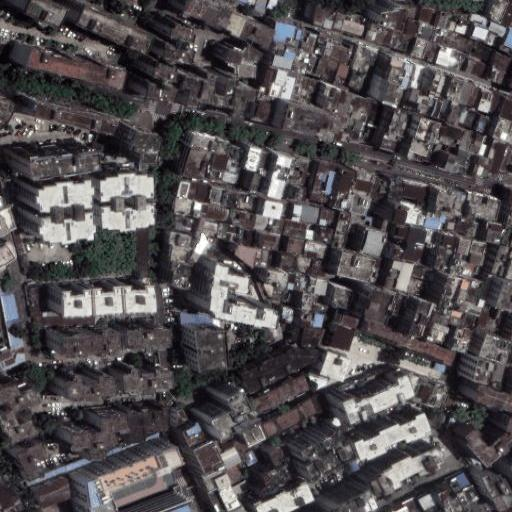building: (71, 438, 166, 512), (455, 383, 512, 467), (187, 249, 255, 314), (15, 44, 118, 86), (348, 406, 430, 458), (369, 445, 447, 498), (369, 322, 456, 368), (324, 364, 400, 414), (13, 173, 69, 237), (169, 68, 243, 114), (75, 164, 131, 224), (285, 415, 347, 469), (13, 90, 98, 123), (242, 348, 303, 392), (193, 380, 242, 429), (257, 444, 300, 497), (253, 375, 311, 413), (430, 270, 478, 310), (4, 138, 74, 165), (255, 483, 314, 512), (39, 322, 104, 345), (475, 470, 512, 510), (0, 433, 34, 476), (128, 60, 166, 98), (142, 17, 177, 57), (100, 355, 148, 384), (113, 398, 155, 431), (179, 326, 211, 368), (204, 37, 244, 70), (286, 104, 326, 137), (41, 363, 89, 390), (454, 239, 486, 279), (58, 421, 102, 450), (1, 294, 25, 346), (28, 476, 67, 506), (260, 410, 303, 437), (30, 310, 98, 327), (416, 375, 453, 406), (336, 252, 374, 282), (102, 319, 153, 341), (119, 123, 150, 159), (364, 288, 393, 326), (193, 442, 224, 476), (220, 12, 255, 42), (332, 490, 378, 512), (409, 299, 434, 338), (106, 277, 140, 305), (319, 351, 350, 381), (182, 148, 211, 180), (376, 196, 414, 220), (208, 483, 239, 512), (275, 20, 307, 48), (47, 280, 77, 309), (481, 335, 512, 363), (269, 40, 297, 70), (386, 260, 413, 291), (77, 277, 106, 305), (467, 194, 499, 219), (476, 303, 502, 333), (374, 52, 400, 82), (487, 276, 512, 307), (328, 325, 355, 352), (387, 107, 410, 138), (296, 397, 324, 422), (384, 31, 414, 54), (311, 160, 331, 194), (0, 479, 21, 511), (347, 61, 369, 91), (278, 255, 314, 273), (322, 163, 341, 197), (175, 182, 208, 201), (202, 469, 228, 493), (435, 125, 462, 148), (312, 1, 335, 28), (363, 229, 385, 257), (365, 0, 395, 20), (294, 344, 320, 367), (346, 94, 369, 120), (487, 139, 505, 172), (137, 228, 149, 277), (300, 293, 328, 314), (428, 72, 448, 101), (334, 211, 351, 245), (218, 446, 242, 470), (415, 119, 440, 142), (182, 424, 207, 447), (461, 356, 483, 382), (252, 96, 274, 122), (254, 214, 284, 233), (209, 188, 239, 207), (332, 311, 360, 331), (448, 472, 472, 495), (451, 328, 473, 353), (408, 135, 433, 157), (355, 44, 380, 66), (189, 132, 215, 153), (320, 85, 340, 112), (304, 242, 331, 261), (491, 247, 508, 277), (368, 77, 389, 101), (291, 46, 309, 74), (160, 258, 179, 284), (428, 322, 450, 344), (333, 92, 353, 116), (492, 119, 512, 143), (272, 156, 291, 181), (85, 406, 114, 422), (416, 492, 439, 512), (405, 277, 428, 297), (395, 173, 422, 190), (292, 157, 309, 184), (256, 68, 273, 95), (268, 70, 285, 97), (434, 152, 458, 171), (261, 198, 287, 215), (230, 211, 256, 228), (435, 481, 456, 502), (434, 191, 455, 212), (384, 239, 406, 259), (456, 486, 478, 506), (301, 327, 323, 347), (259, 233, 281, 253), (480, 220, 499, 243), (455, 218, 479, 236), (235, 247, 256, 267), (349, 192, 369, 213), (300, 203, 322, 222), (281, 221, 307, 237), (339, 169, 357, 192), (323, 114, 347, 131), (303, 53, 320, 77), (245, 147, 261, 172), (379, 132, 399, 152), (458, 81, 474, 106), (303, 79, 319, 104), (226, 464, 246, 484), (267, 177, 286, 198), (403, 240, 422, 261), (287, 273, 309, 291), (216, 225, 238, 243), (447, 77, 465, 99), (341, 20, 365, 36), (291, 77, 307, 101), (416, 20, 436, 39), (232, 477, 252, 496), (457, 108, 476, 128), (301, 31, 320, 51), (332, 287, 350, 308), (490, 52, 511, 70), (497, 98, 512, 123), (410, 266, 432, 283), (236, 193, 258, 210), (318, 210, 337, 229), (235, 228, 255, 246), (468, 134, 486, 154), (314, 55, 329, 79), (307, 279, 328, 296), (336, 189, 353, 210), (331, 44, 352, 61), (207, 205, 229, 221), (350, 118, 366, 140), (477, 90, 493, 112), (464, 59, 486, 75), (323, 60, 339, 82), (280, 76, 295, 99), (161, 241, 180, 259), (455, 35, 475, 52), (436, 48, 453, 68), (489, 364, 505, 385), (156, 228, 180, 242), (256, 153, 272, 174), (407, 228, 428, 244), (501, 61, 512, 91), (392, 293, 407, 315), (163, 211, 181, 229), (443, 495, 462, 512), (211, 137, 228, 156), (476, 115, 493, 134), (470, 41, 489, 58), (423, 217, 444, 232), (467, 88, 482, 109), (469, 14, 490, 29), (431, 34, 453, 48), (487, 20, 505, 37), (174, 199, 191, 217), (419, 95, 436, 113), (381, 174, 397, 193), (225, 144, 244, 160), (437, 10, 453, 29), (458, 131, 473, 151), (310, 191, 333, 204), (430, 99, 444, 120), (334, 64, 348, 85), (435, 255, 452, 272), (407, 87, 424, 104), (411, 40, 427, 58), (266, 271, 288, 284), (287, 239, 306, 254), (254, 250, 269, 269), (320, 126, 339, 141), (489, 65, 505, 82), (403, 497, 421, 512), (432, 311, 450, 326), (503, 250, 512, 280), (456, 149, 471, 167), (423, 43, 438, 61), (177, 312, 207, 321), (313, 226, 333, 239), (250, 171, 263, 191), (451, 194, 464, 214), (488, 94, 501, 114), (0, 280, 15, 297), (360, 319, 375, 336), (211, 156, 228, 171), (393, 225, 410, 240), (447, 57, 464, 72), (201, 223, 219, 237), (502, 201, 512, 225), (312, 259, 328, 274), (243, 451, 258, 467), (287, 325, 301, 342), (440, 98, 454, 115), (354, 179, 373, 191), (315, 34, 327, 53), (225, 159, 240, 174), (469, 27, 485, 41), (193, 203, 209, 217), (478, 154, 494, 168), (404, 19, 418, 35), (282, 307, 295, 324), (223, 171, 240, 184), (504, 367, 512, 394), (333, 13, 345, 31), (441, 235, 456, 249), (418, 7, 432, 22), (473, 163, 489, 176), (447, 110, 460, 126), (299, 311, 311, 328), (448, 316, 465, 328), (434, 27, 451, 39), (481, 138, 492, 156), (283, 289, 297, 303), (365, 29, 379, 43), (438, 246, 454, 258), (365, 127, 377, 143), (484, 33, 497, 47), (322, 41, 334, 56), (450, 50, 466, 61), (292, 204, 302, 221), (295, 188, 308, 201), (272, 288, 284, 302), (177, 410, 187, 426), (457, 13, 469, 26), (468, 501, 482, 512), (406, 4, 417, 18), (504, 29, 512, 48), (369, 24, 384, 34), (372, 256, 382, 269), (432, 11, 441, 25), (375, 33, 385, 45), (455, 24, 467, 34), (263, 287, 274, 297), (451, 102, 461, 112), (448, 32, 458, 42), (451, 310, 462, 319), (381, 221, 390, 231), (305, 230, 314, 239), (452, 11, 460, 21), (447, 222, 455, 231), (449, 22, 457, 31)
